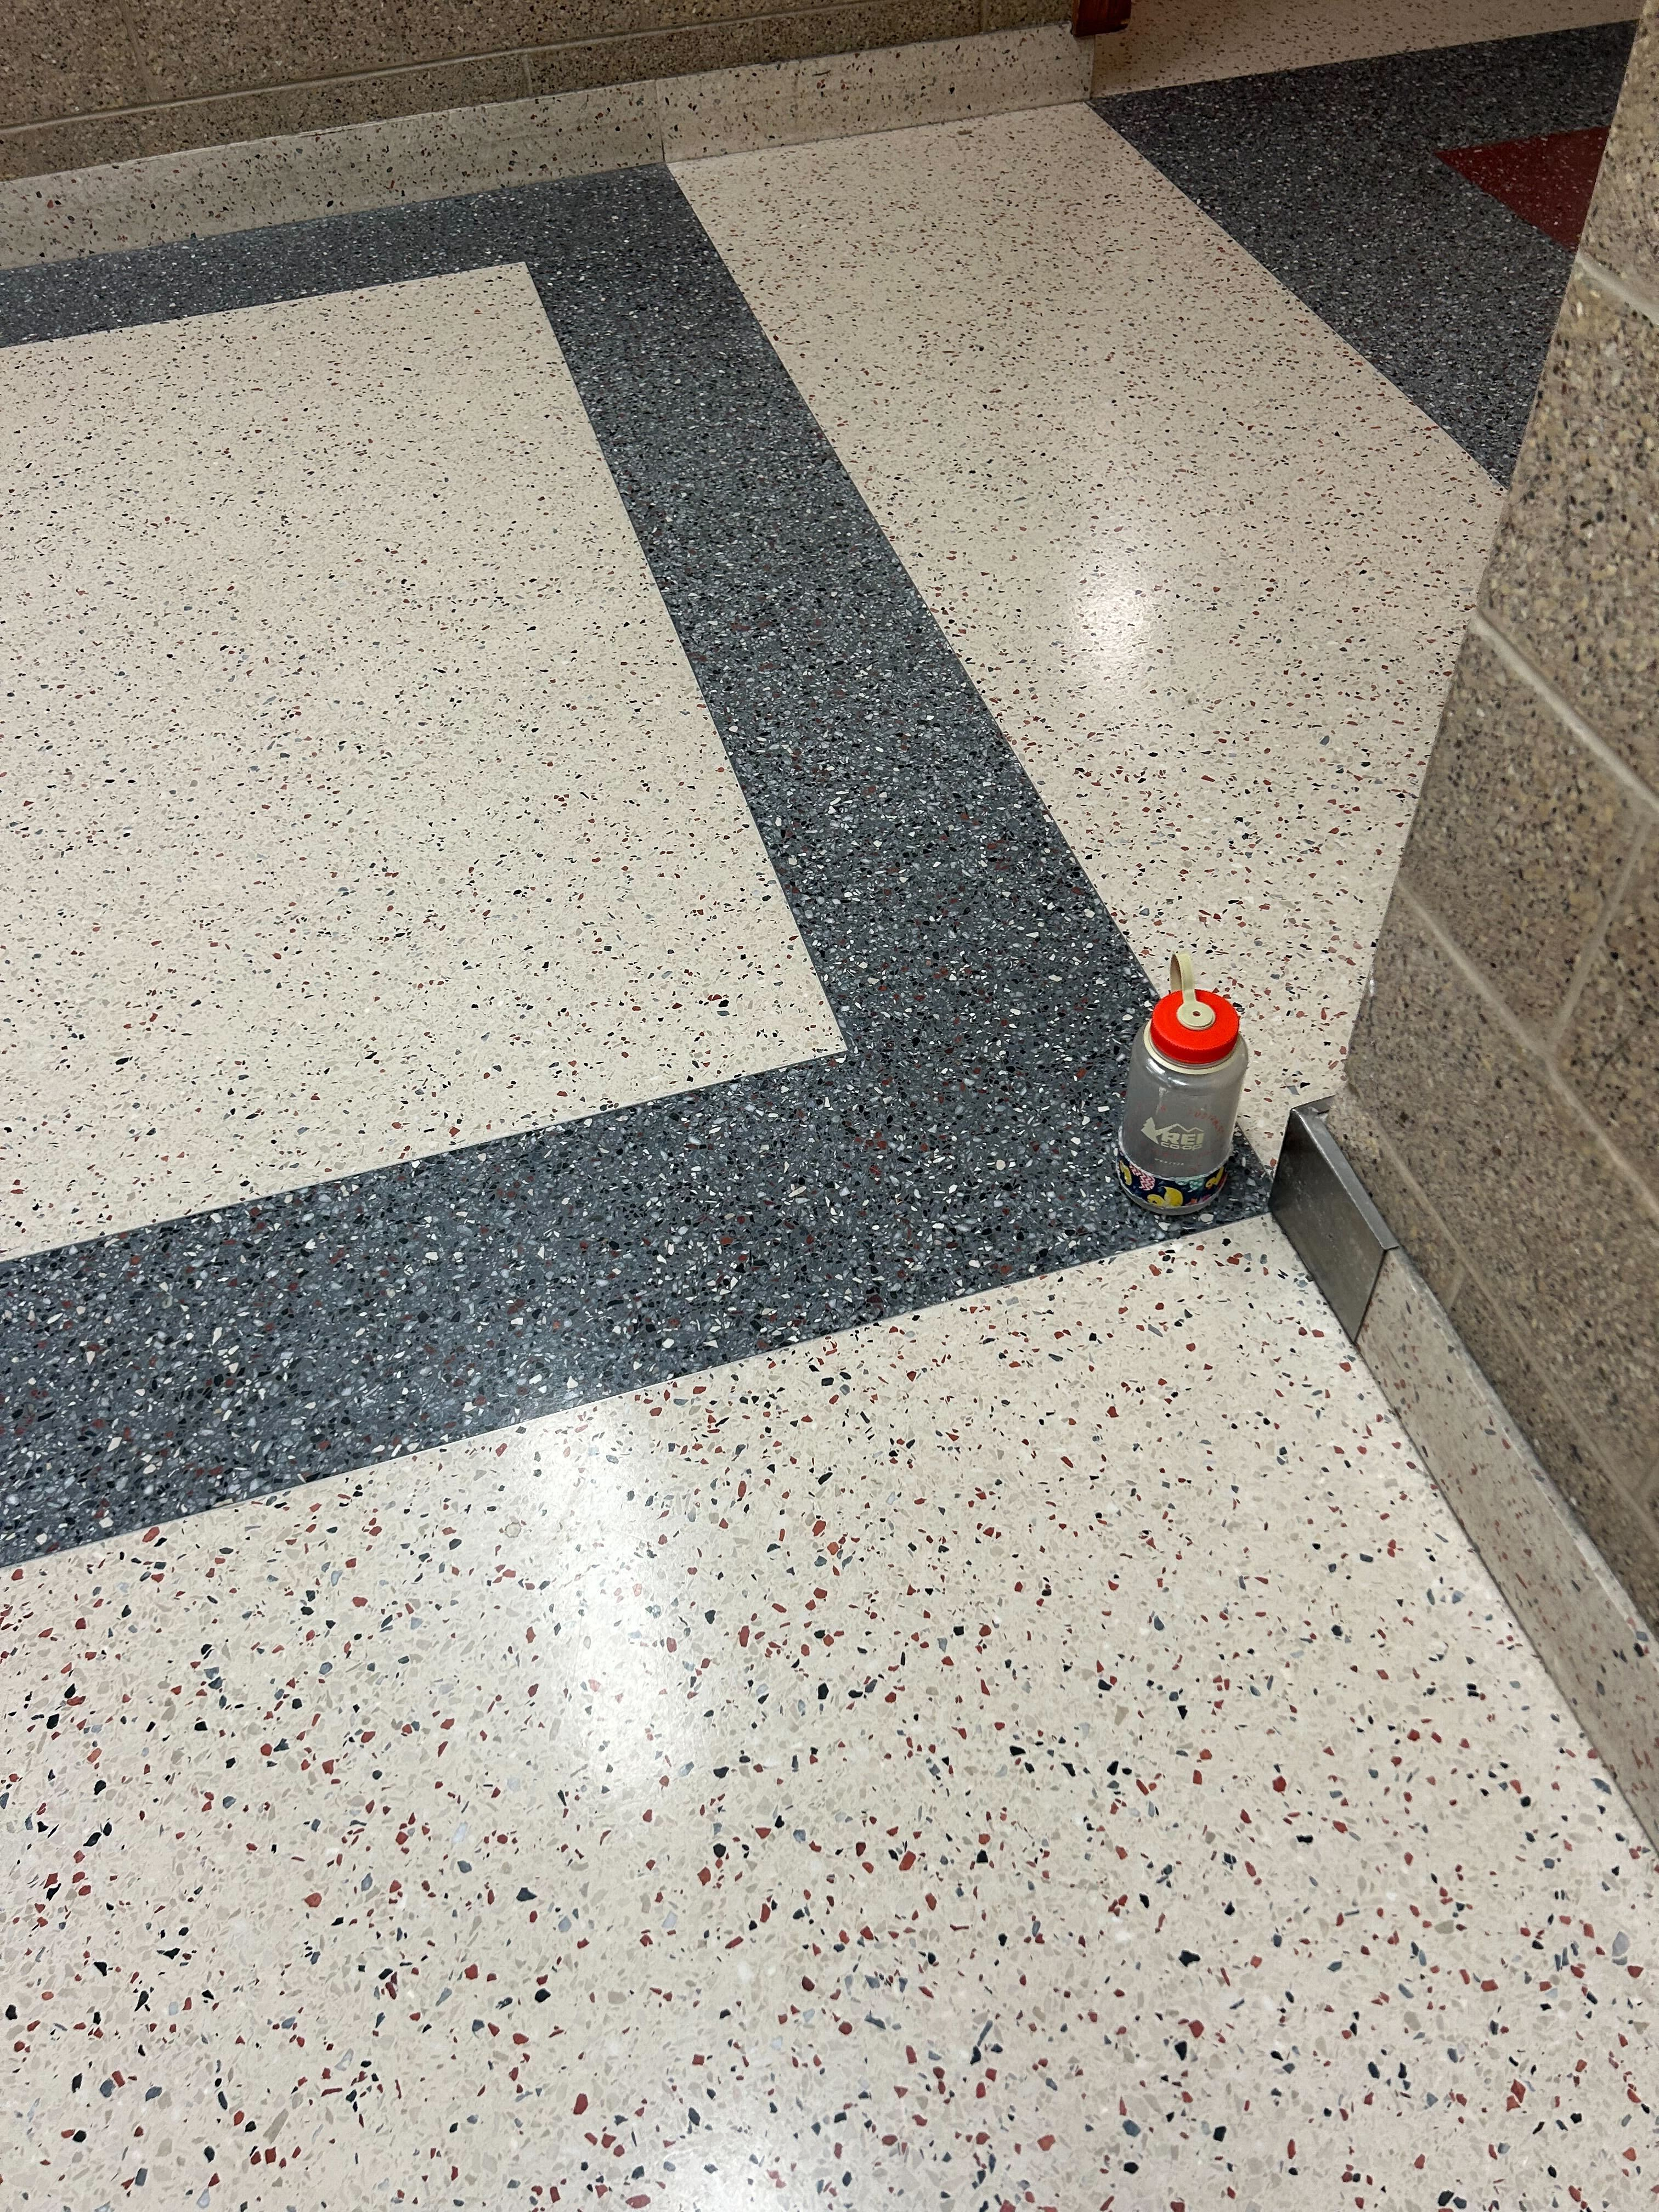bottle: (1112, 935, 1253, 1226)
